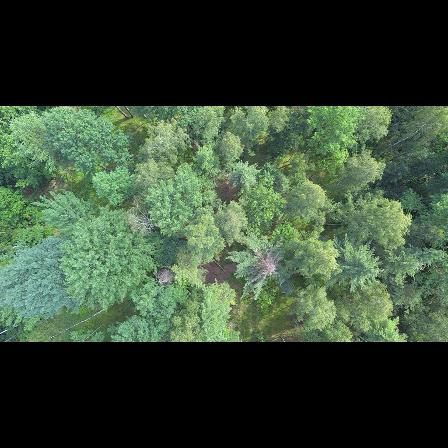Dead: (250, 248, 284, 287), (127, 206, 160, 234), (152, 267, 179, 290)
